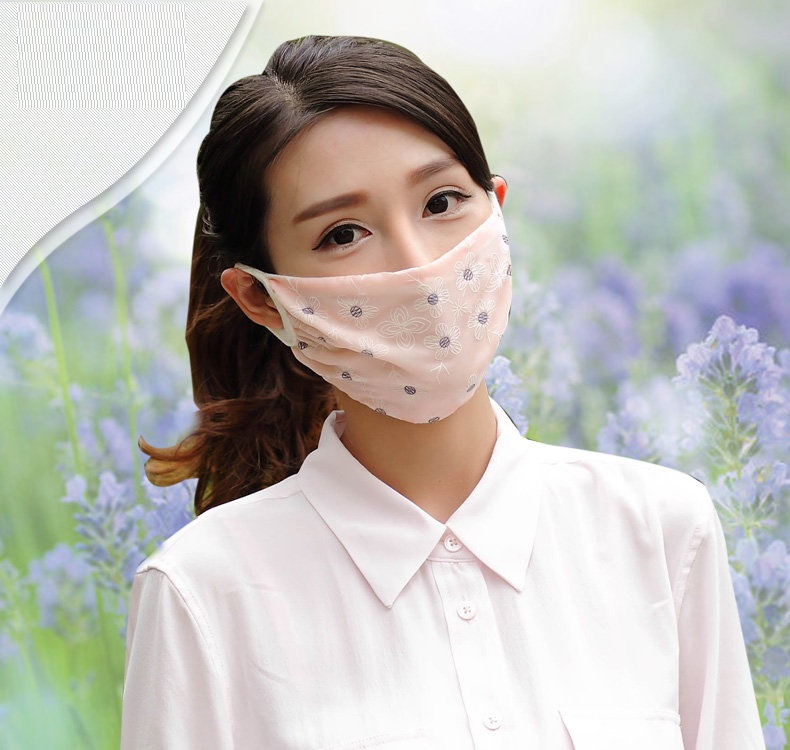face_mask: (272, 126, 521, 428)
